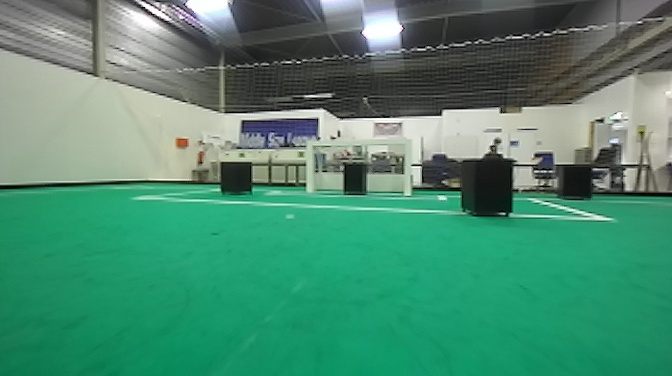goalpost: (303, 144, 318, 195), (401, 135, 413, 194)
